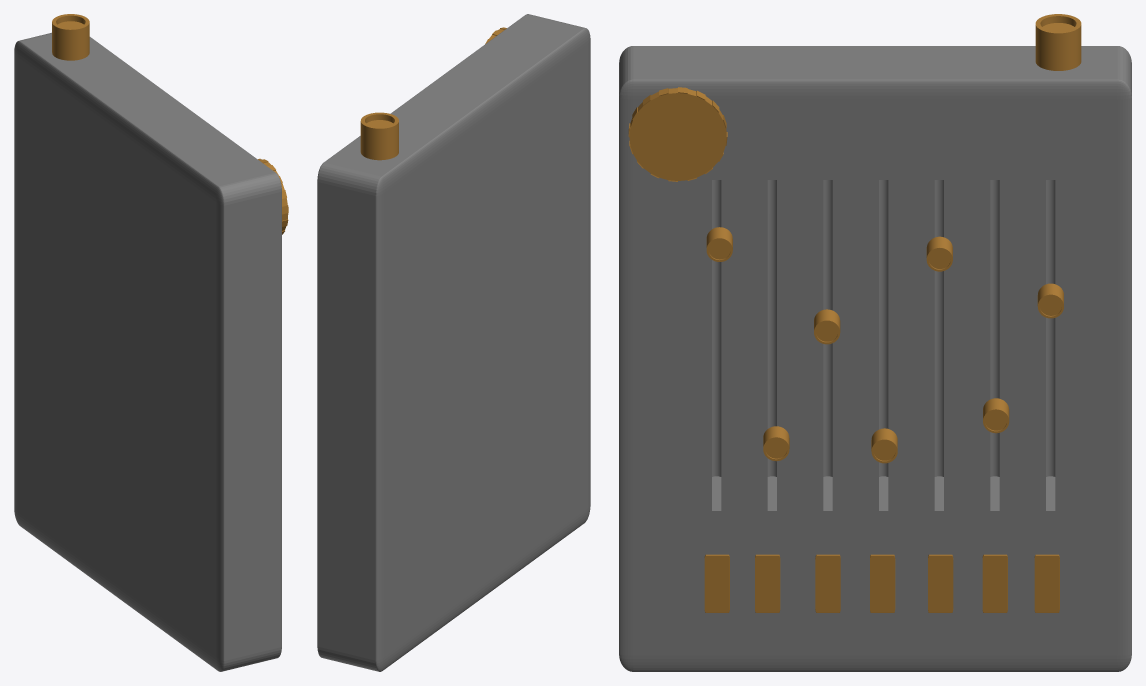
The model's file is audio2.glb.
The picture shows the model from 3 angles, left to right: view 1: azimuth 30°, elevation 25°; view 2: azimuth 150°, elevation 25°; view 3: azimuth 270°, elevation 25°; orthographic projection. The views are drawn at different scales.
Parts seen in each view (by area): view 1: Cube; view 2: Cube; view 3: Cube.
Boxes of the visible parts, x1,y1,x2,y2 form: Cube: (14, 14, 288, 671); Cube: (317, 14, 590, 671); Cube: (619, 14, 1131, 671).
Bounding box in the file's own units: 0.6006 × 3.64 × 2.68.
